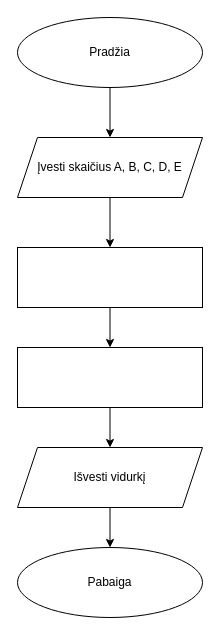
The diagram is 220 pixels wide and 635 high, and some of its shapes have lost their labels. The shapes that lost their labels are listed below. From the top down, each one's centre as x and y in pixels, then its label:
At point (109, 277): "Suskaičiuoti A + B + C + D + E suma".
At point (109, 377): "Vidurkis suskaičiuojamas: Suma / 5".
